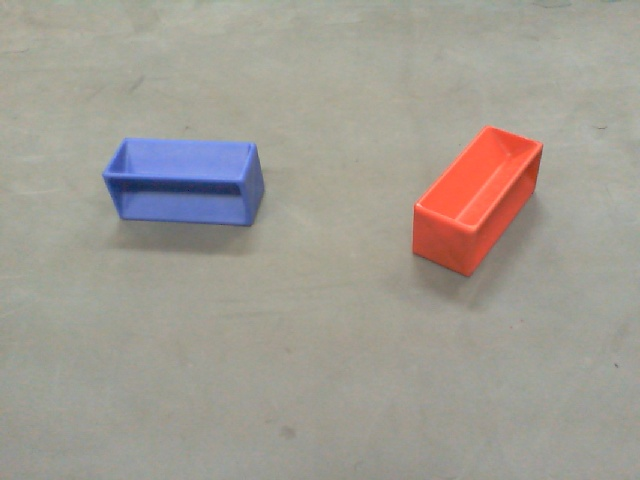BlueSample: (99, 134, 266, 233)
RedSample: (409, 122, 544, 286)
